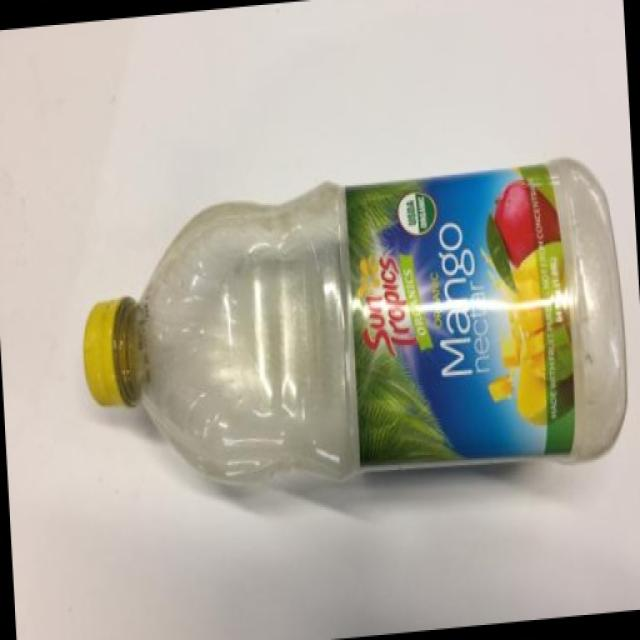plastico: (54, 143, 638, 525)
